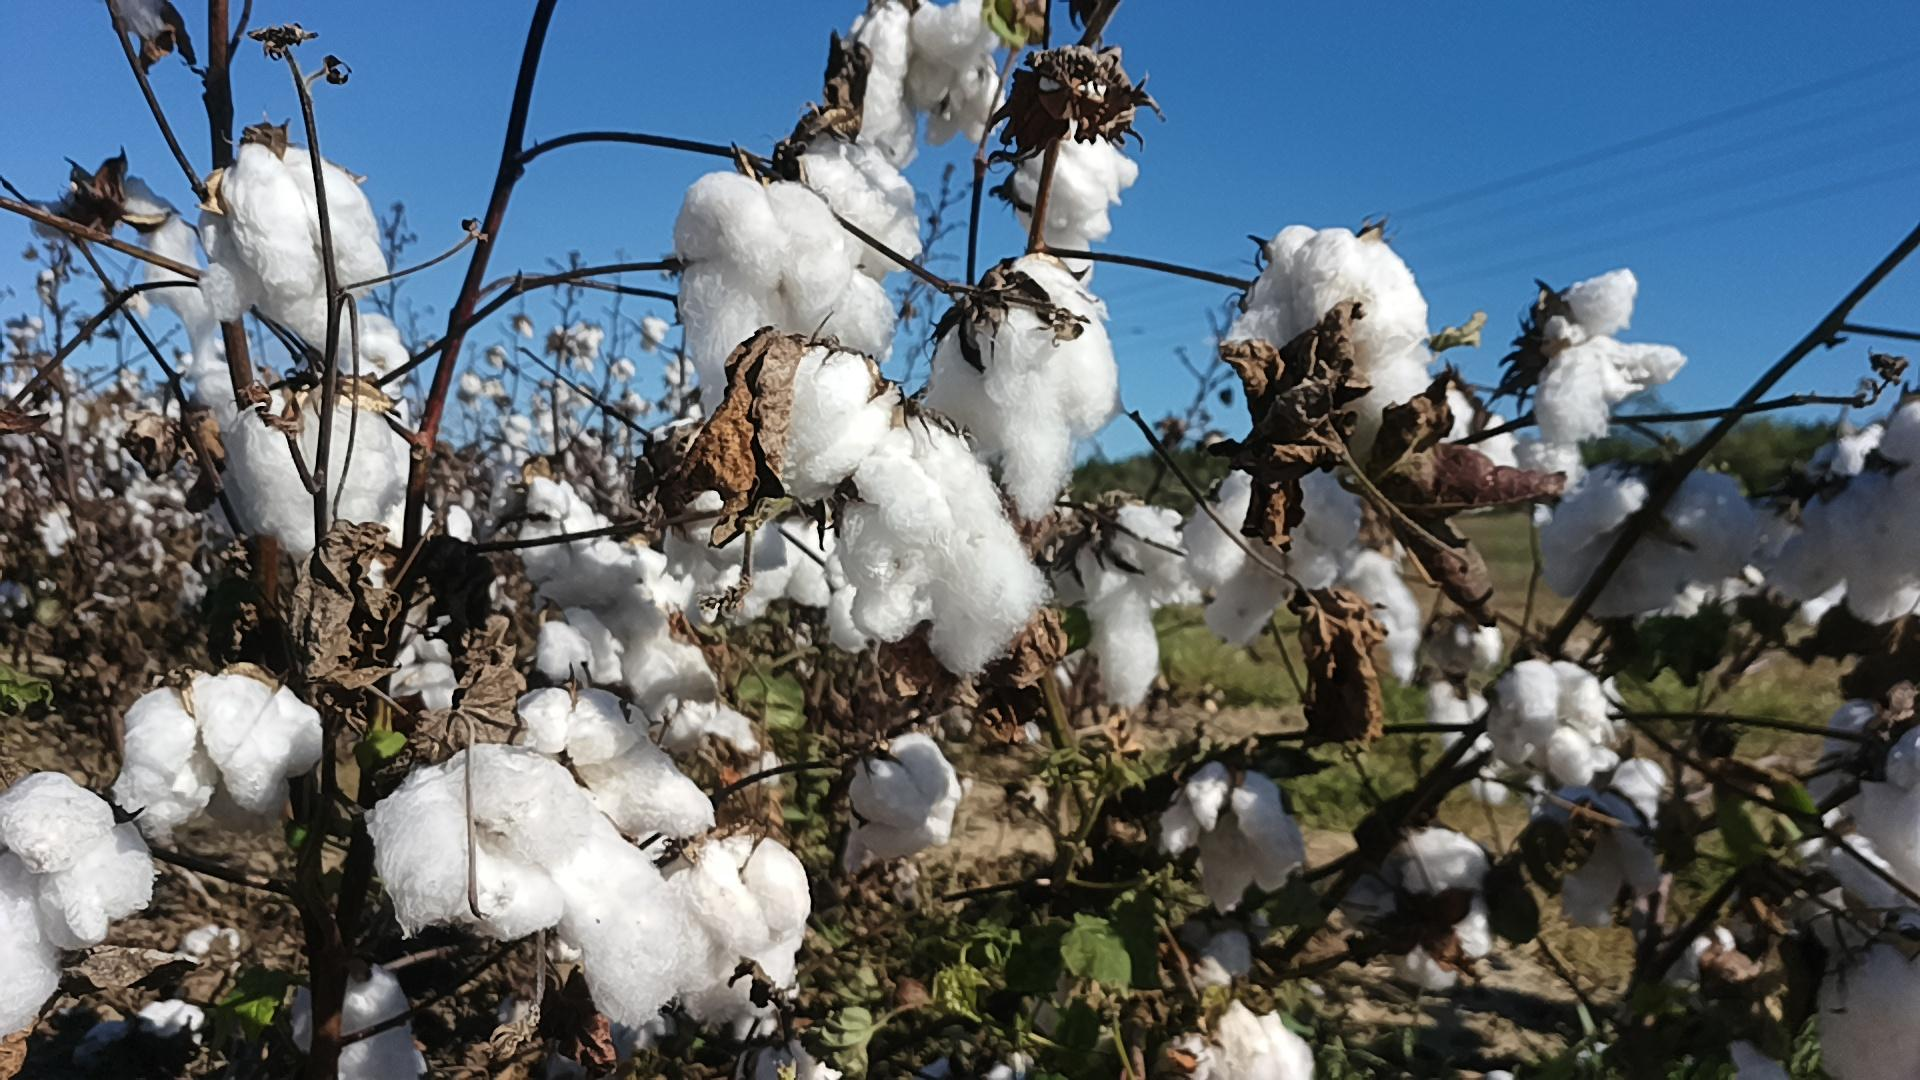cotton_ready: (367, 746, 684, 1022), (839, 422, 1051, 675), (926, 255, 1121, 522), (32, 175, 235, 429), (1226, 222, 1432, 464), (670, 174, 855, 414), (0, 773, 157, 1036), (206, 146, 386, 355), (1540, 460, 1763, 620), (113, 674, 322, 831), (516, 687, 716, 841), (1199, 471, 1367, 653), (661, 833, 811, 1021), (232, 390, 401, 556), (1532, 270, 1692, 444), (1341, 831, 1491, 990), (1156, 764, 1305, 916), (1077, 502, 1179, 709), (771, 347, 905, 504), (1780, 475, 1920, 624), (1013, 123, 1141, 282), (1531, 787, 1662, 932), (798, 140, 924, 278), (1489, 657, 1610, 790), (835, 0, 931, 166), (1838, 732, 1920, 926), (658, 480, 789, 601), (844, 735, 957, 861), (293, 973, 426, 1080), (541, 542, 670, 650), (911, 0, 1006, 145), (1818, 945, 1920, 1080), (650, 702, 787, 799), (496, 986, 634, 1080), (365, 502, 468, 626), (1166, 1000, 1317, 1080), (1345, 542, 1419, 686), (1385, 683, 1489, 766), (812, 274, 901, 372), (745, 517, 844, 601), (232, 981, 313, 1080), (1184, 471, 1251, 585), (1807, 702, 1878, 806), (628, 644, 723, 719), (534, 607, 624, 686), (521, 483, 600, 571), (1585, 750, 1672, 824), (339, 310, 413, 394), (1440, 390, 1519, 467), (902, 1036, 1039, 1080), (33, 1011, 127, 1075), (385, 632, 458, 711), (1178, 923, 1255, 990), (1665, 927, 1742, 993), (1718, 1034, 1826, 1080), (132, 1000, 206, 1063), (741, 1038, 845, 1080), (1429, 618, 1502, 676), (174, 920, 252, 969)
